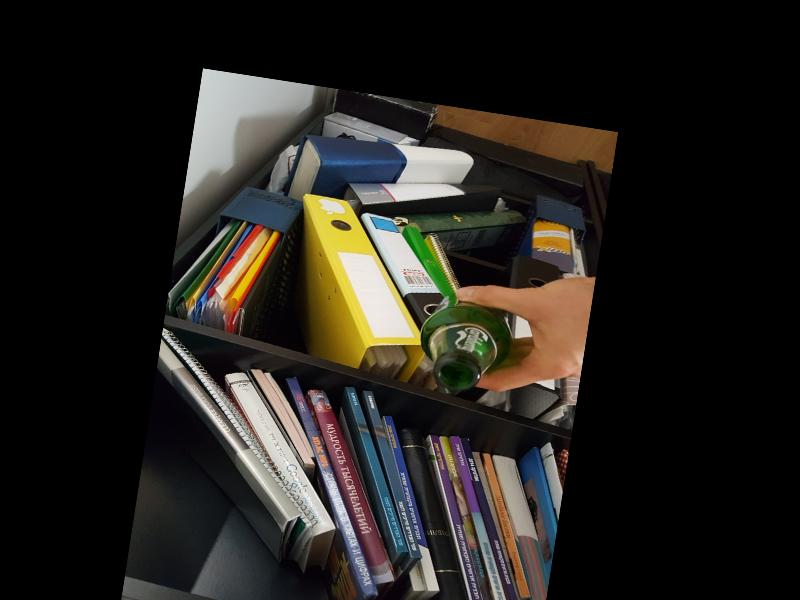Beer: (414, 288, 514, 395)
